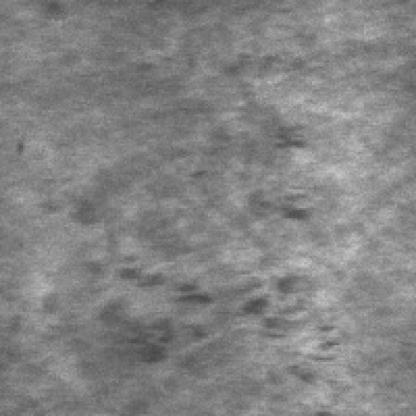rolled-in_scale: (56, 256, 343, 385), (198, 50, 308, 220)
